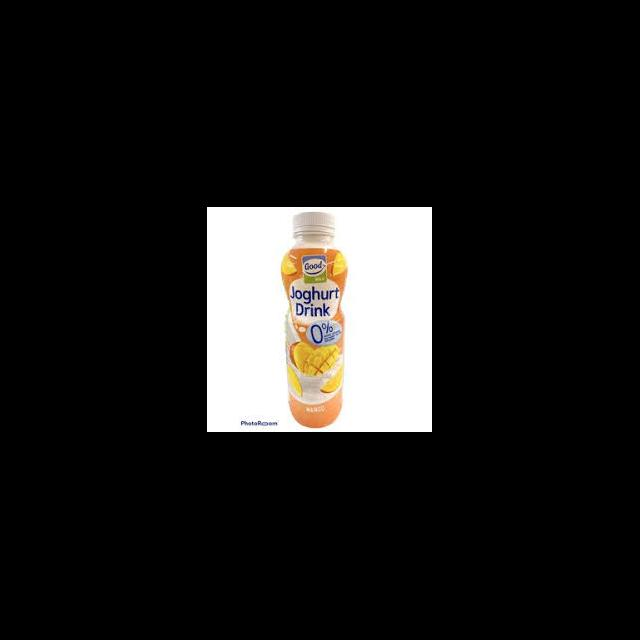plastic: (280, 212, 348, 428), (292, 212, 336, 236)
